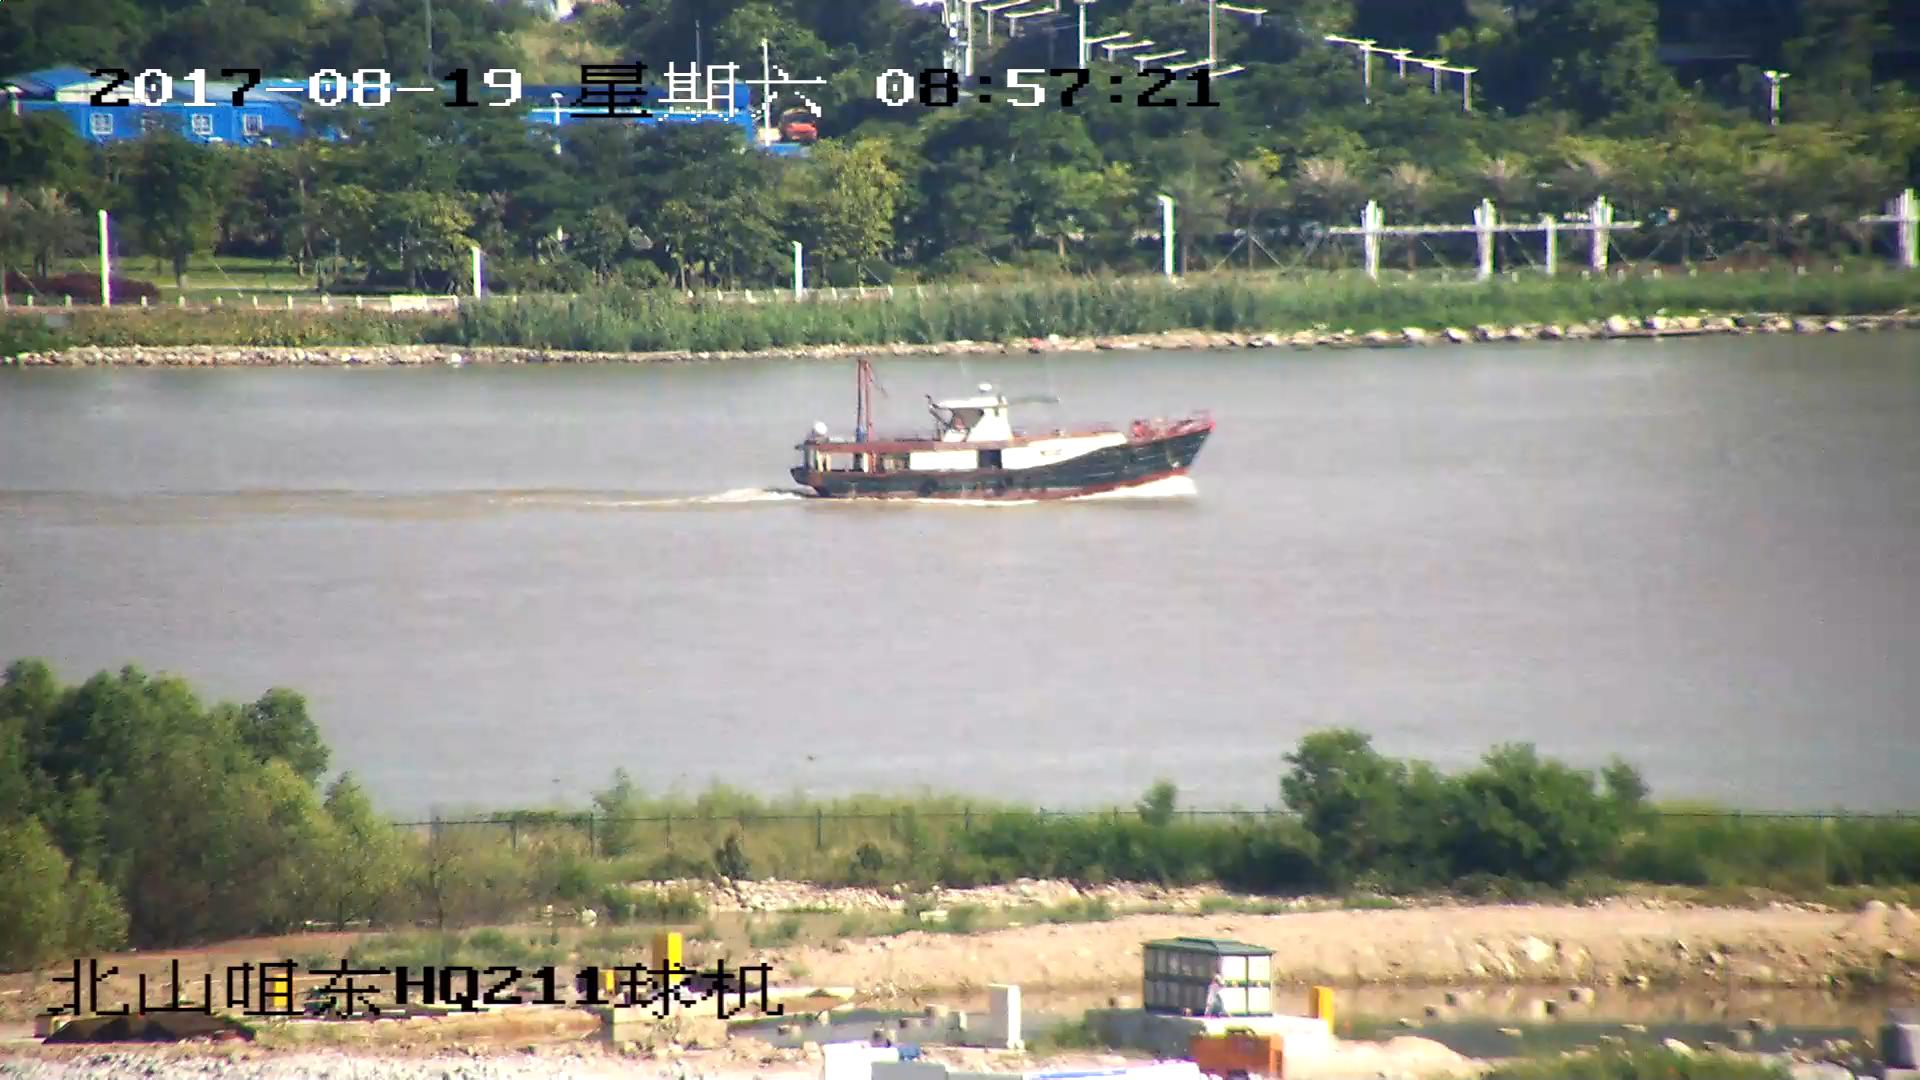fishing boat: (787, 358, 1217, 503)
